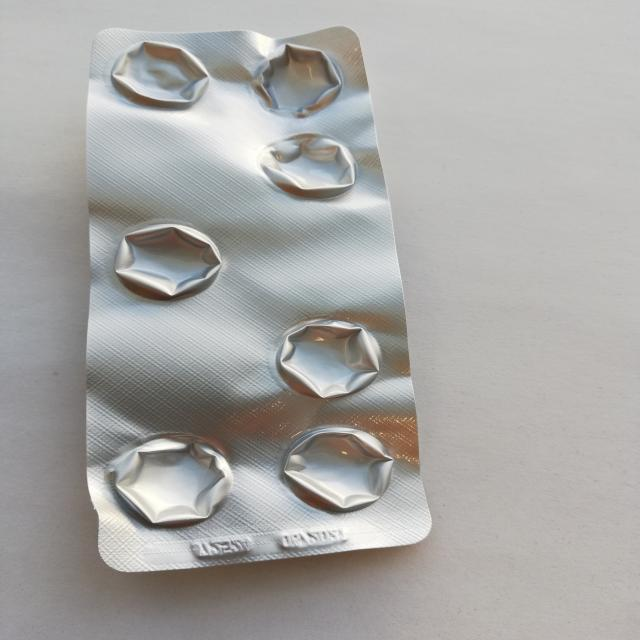Empty: (96, 426, 241, 535), (274, 421, 404, 518), (107, 214, 235, 304), (270, 316, 391, 408), (241, 40, 352, 120), (98, 35, 215, 108), (257, 131, 365, 204)
